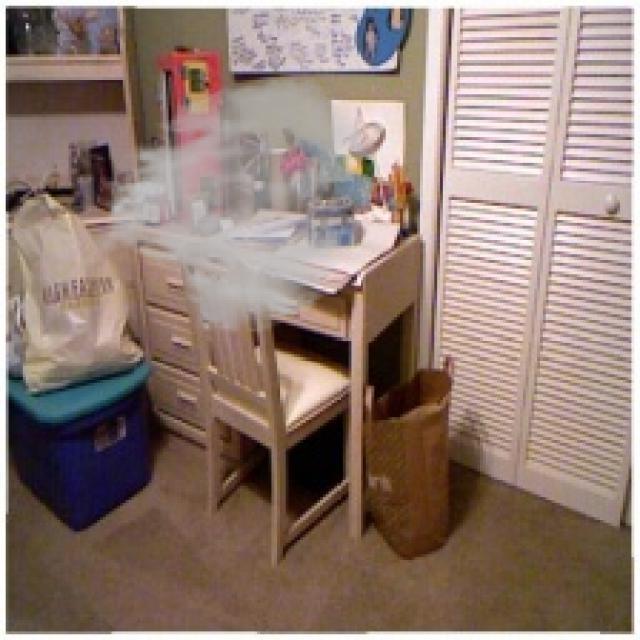smoke: (88, 74, 372, 337)
